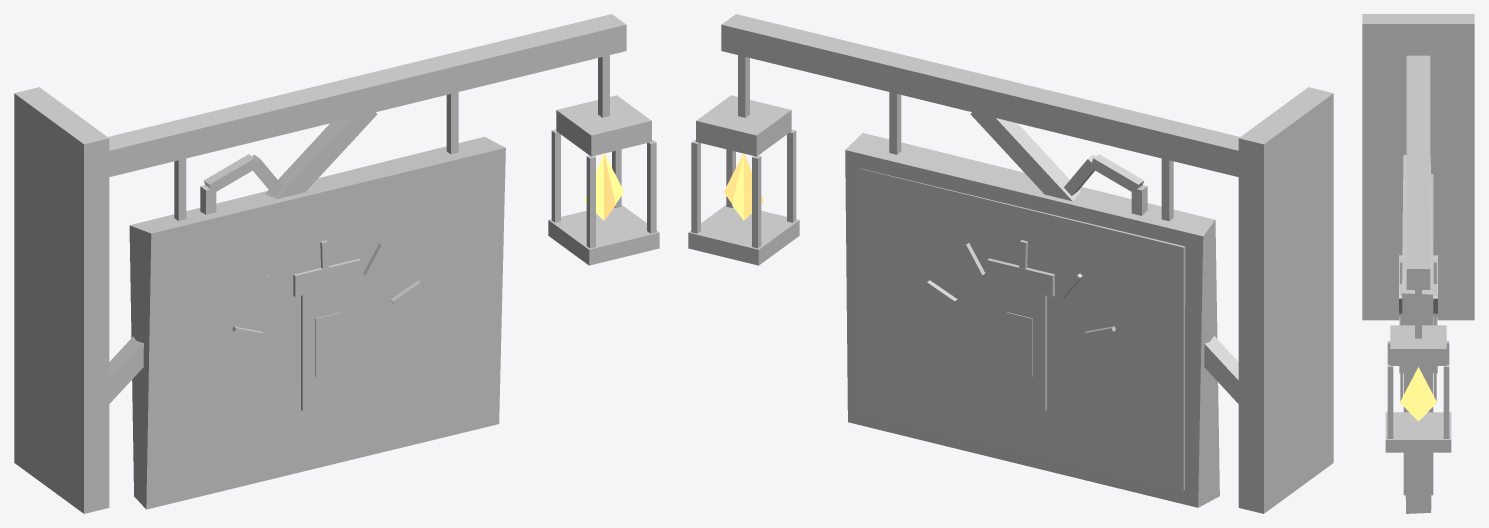
File: prop.inn_sign.glb
3 views of the same model, side by side, from view 1: azimuth 30°, elevation 25°; view 2: azimuth 150°, elevation 25°; view 3: azimuth 270°, elevation 25° (orthographic). The views are drawn at different scales.
Visible parts, largest first — view 1: prop.inn_sign; view 2: prop.inn_sign; view 3: prop.inn_sign.
Part boxes in pixels (box(x1,y1,x2,y2)): prop.inn_sign: box(14, 14, 659, 513); prop.inn_sign: box(688, 14, 1333, 513); prop.inn_sign: box(1362, 14, 1474, 513).
Size of the model in its own units: 1.17 by 0.7719 by 0.24.
